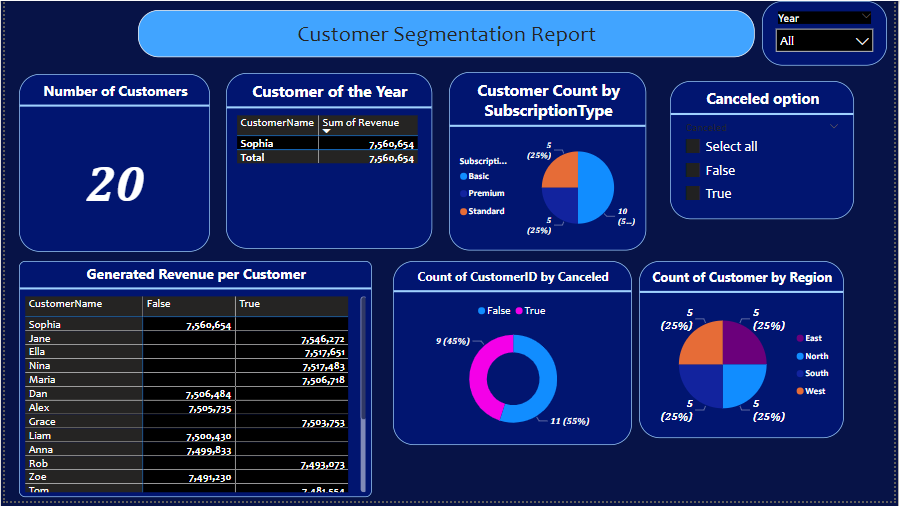

The page's visual inventory and layout, read from the dashboard file:
{"tool":"powerbi","page":{"name":"Key Customer Segment","canvas":[1280,720],"ordinal":2},"visuals":[{"type":"card","title":"Number of Customers","fields":{"Values":["Count(CustomerData.CustomerID)"]},"box":[19.8,104.4,275.4,255.6],"z":0},{"type":"slicer","title":"Canceled option","fields":{"Values":["CustomerData.Canceled"]},"box":[957.6,115.2,265,198.7],"z":1000},{"type":"donutChart","fields":{"Category":["CustomerData.Canceled"],"Y":["Count(CustomerData.CustomerID)"]},"box":[558.7,374.4,344.2,265],"z":2000},{"type":"pieChart","title":"Count of Customer by Region","fields":{"Category":["CustomerData.Region"],"Y":["Count(CustomerData.CustomerID)"]},"box":[913,374.4,295.2,254.9],"z":3000},{"type":"textbox","box":[190.8,12.6,887.5,68.4],"z":4000},{"type":"pivotTable","title":"Generated Revenue per Customer","fields":{"Rows":["CustomerData.CustomerName"],"Columns":["CustomerData.Canceled"],"Values":["Sum(CustomerData.Revenue)"]},"box":[20.2,374.4,508.3,339.8],"z":5000},{"type":"pieChart","title":"Customer Count by SubscriptionType","fields":{"Category":["CustomerData.SubscriptionType"],"Y":["Count(CustomerData.CustomerID)"]},"box":[640,102.7,284.4,256.8],"z":6000},{"type":"slicer","fields":{"Values":["CustomerData.SubscriptionEnd.Variation.Date Hierarchy.Year"]},"box":[1090.4,0,179.8,92.8],"z":7000},{"type":"tableEx","title":"Customer of the Year","fields":{"Values":["CustomerData.CustomerName","Sum(CustomerData.Revenue)"]},"box":[317.8,103.6,296.7,252.8],"z":8000}]}

Visuals, with their boxes in screenshot pixels (x1, y1, x2, y2), scaled from the page's 1280x720 canvas onto the 900x506 screenshot:
"Number of Customers" card: crop(14, 73, 208, 253)
"Canceled option" slicer: crop(673, 81, 860, 221)
donutChart - CustomerData.Canceled x Count(CustomerData.CustomerID): crop(393, 263, 635, 449)
"Count of Customer by Region" pieChart: crop(642, 263, 850, 442)
textbox: crop(134, 9, 758, 57)
"Generated Revenue per Customer" pivotTable: crop(14, 263, 372, 502)
"Customer Count by SubscriptionType" pieChart: crop(450, 72, 650, 253)
slicer - CustomerData.SubscriptionEnd.Variation.Date Hierarchy.Year: crop(767, 0, 893, 65)
"Customer of the Year" tableEx: crop(223, 73, 432, 250)
